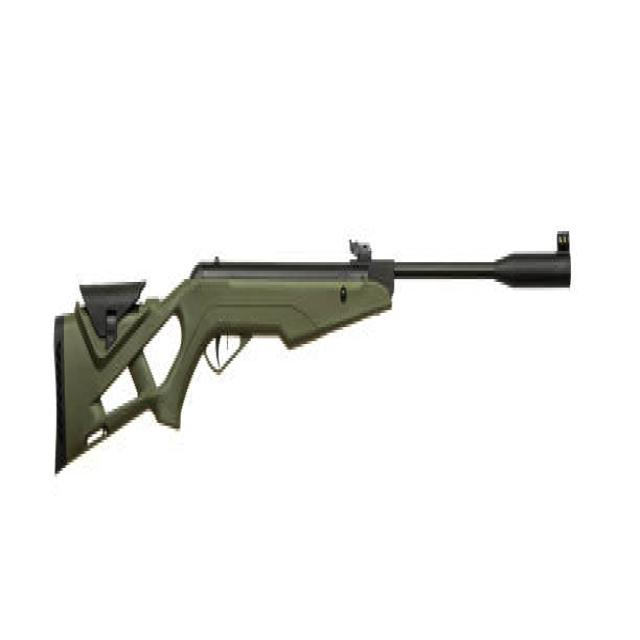rifle: (46, 211, 578, 489)
